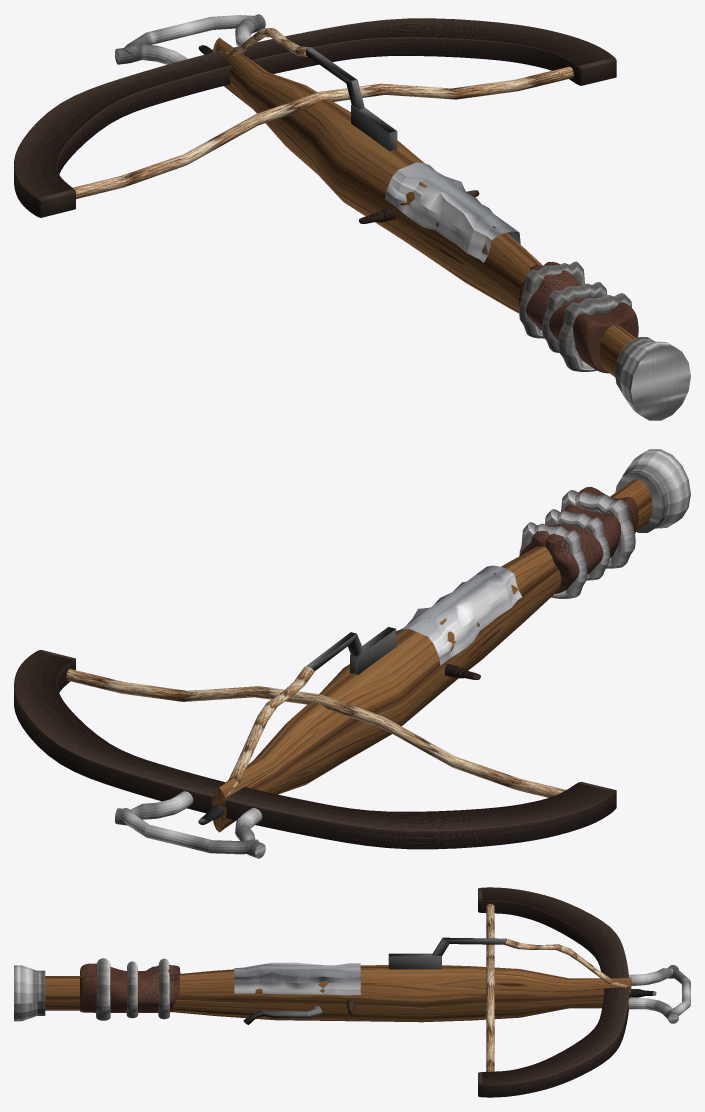
Rendered from crossbow.fbx.
3 views of the same model, one above another, from view 1: azimuth 30°, elevation 25°; view 2: azimuth 150°, elevation 25°; view 3: azimuth 270°, elevation 25° (orthographic). The views are drawn at different scales.
Parts seen in each view (by area): view 1: Cube_2_2, Capsule, Cylinder, Plane, Cylinder_3, Tube, Torus_1, Cylinder_3_3, Cylinder_3_2, Torus_2, Torus, Cube (+1 smaller); view 2: Cube_2_2, Capsule, Cylinder, Plane, Tube, Cylinder_3, Cylinder_3_3, Torus_1, Cylinder_3_2, Cylinder_1, Torus_2, Torus (+1 smaller); view 3: Capsule, Cube_2_2, Plane, Tube, Cylinder_3, Cylinder, Cylinder_3_3, Torus_1, Cube, Cylinder_1, Torus_2, Torus (+3 smaller).
Part boxes in pixels (x1,y1,x2,y2): Cube_2_2: (14,18,616,217); Capsule: (212,37,635,376); Cylinder: (72,66,573,198); Plane: (385,162,520,262); Cylinder_3: (614,337,690,420); Tube: (518,262,638,373); Torus_1: (558,293,631,371); Cylinder_3_3: (115,14,265,64); Cylinder_3_2: (122,15,257,55); Torus_2: (519,261,584,338); Torus: (542,282,607,352); Cube: (351,105,397,150); Cube_2_2: (14,650,616,849); Capsule: (211,479,652,832); Cylinder: (66,669,565,797); Plane: (396,565,522,665); Tube: (520,487,638,593); Cylinder_3: (615,449,690,532); Cylinder_3_3: (115,791,265,858); Torus_1: (561,490,635,568); Cylinder_3_2: (122,808,258,854); Cylinder_1: (225,666,314,797); Torus_2: (519,522,587,598); Torus: (545,509,610,580); Capsule: (45,965,631,1022); Cube_2_2: (478,887,629,1097); Plane: (234,962,360,995); Tube: (80,963,180,1012); Cylinder_3: (14,965,45,1021); Cylinder: (486,904,494,1071); Cylinder_3_3: (628,965,678,1023); Torus_1: (96,958,110,1020); Cube: (388,953,441,969); Cylinder_1: (504,938,627,987); Torus_2: (158,958,169,1019); Torus: (126,961,138,1018).
Size of the model in its own units: 2.46 by 0.4714 by 3.57.
7 materials, 7 textured.
